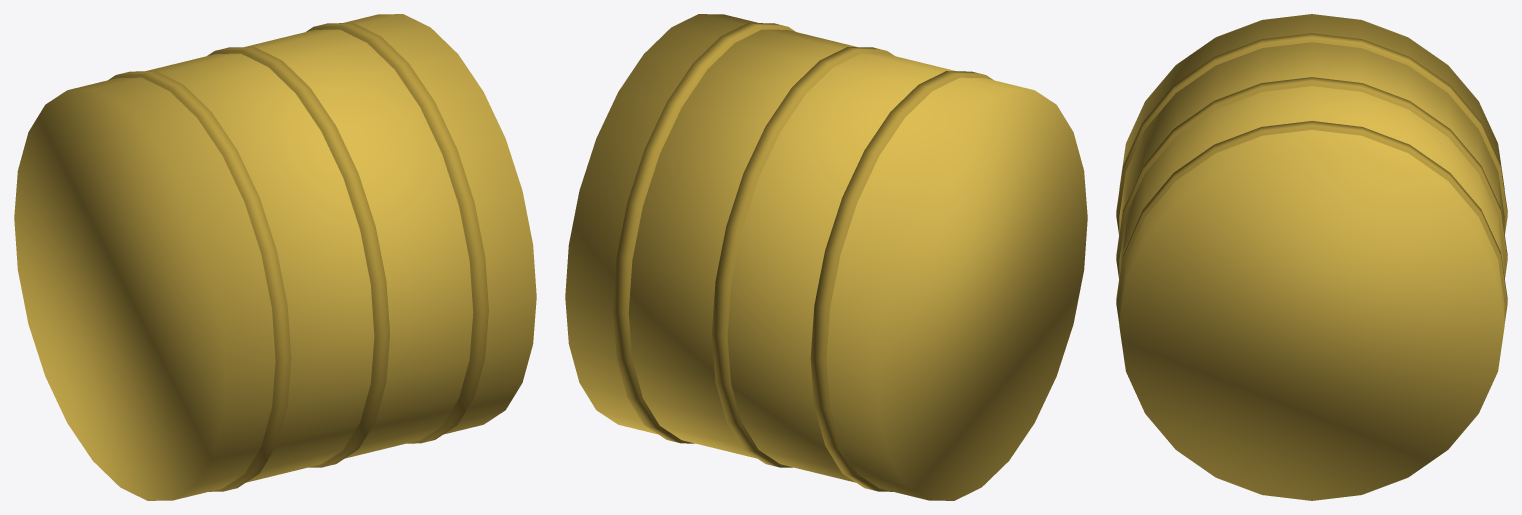
Rendered from hay.glb.
3 renders of one model, left to right at view 1: azimuth 30°, elevation 25°; view 2: azimuth 150°, elevation 25°; view 3: azimuth 270°, elevation 25°, orthographic. The views are drawn at different scales.
Visible parts, largest first — view 1: Body; view 2: Body; view 3: Body.
Boxes of the visible parts, left/top/right/bottom form: Body: left=14, top=14, right=536, bottom=500; Body: left=565, top=14, right=1087, bottom=500; Body: left=1116, top=14, right=1507, bottom=500.
Size of the model in its own units: 1.1 by 1.32 by 1.32.
